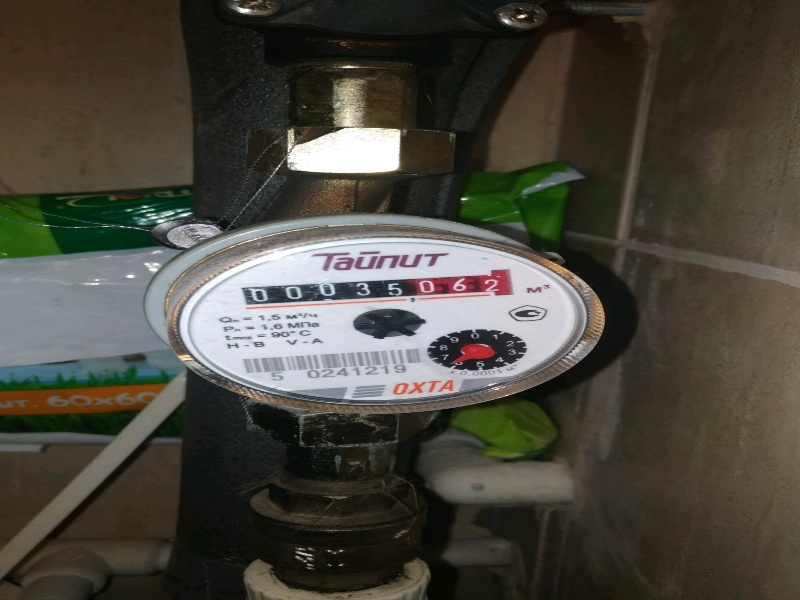dial: (241, 270, 515, 308)
